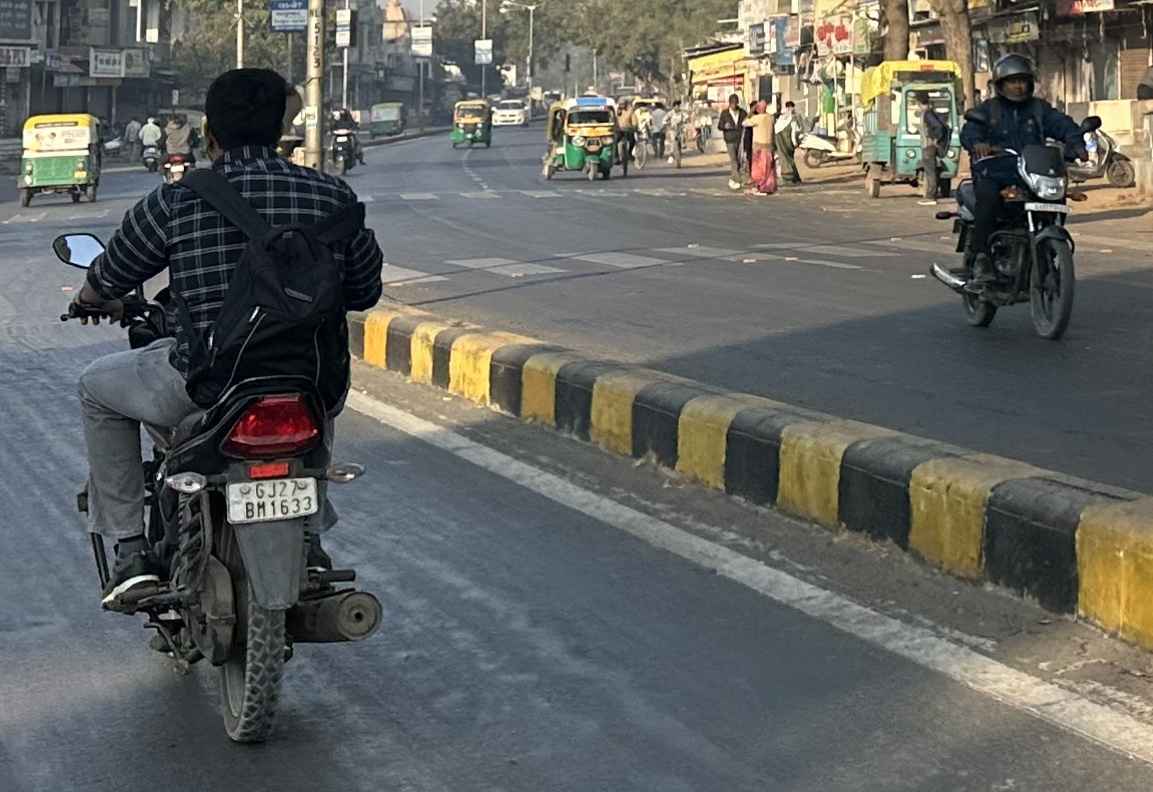BikeWithRider: (48, 66, 386, 750), (928, 52, 1104, 343), (323, 99, 371, 179), (162, 106, 193, 179), (132, 112, 162, 169)
Helmet: (988, 53, 1041, 105)
NoHelmet: (193, 66, 292, 174)
